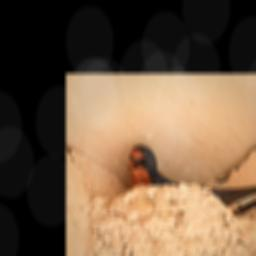Swallow: (127, 142, 256, 224)
